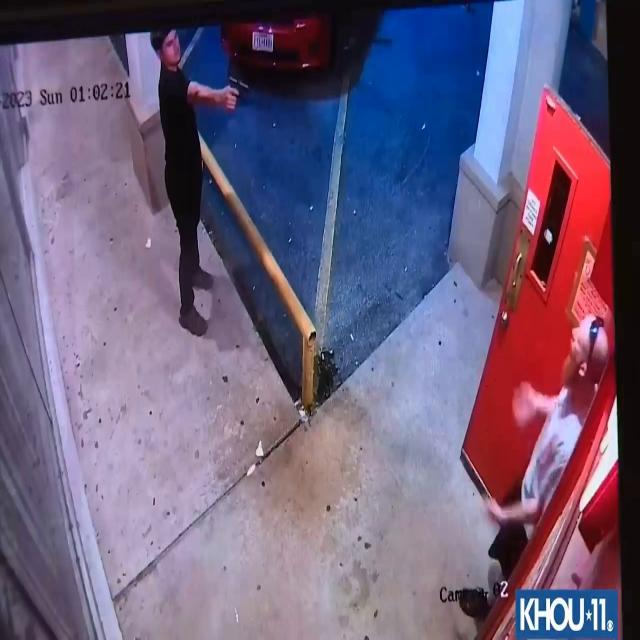penembakan: (146, 31, 254, 357)
